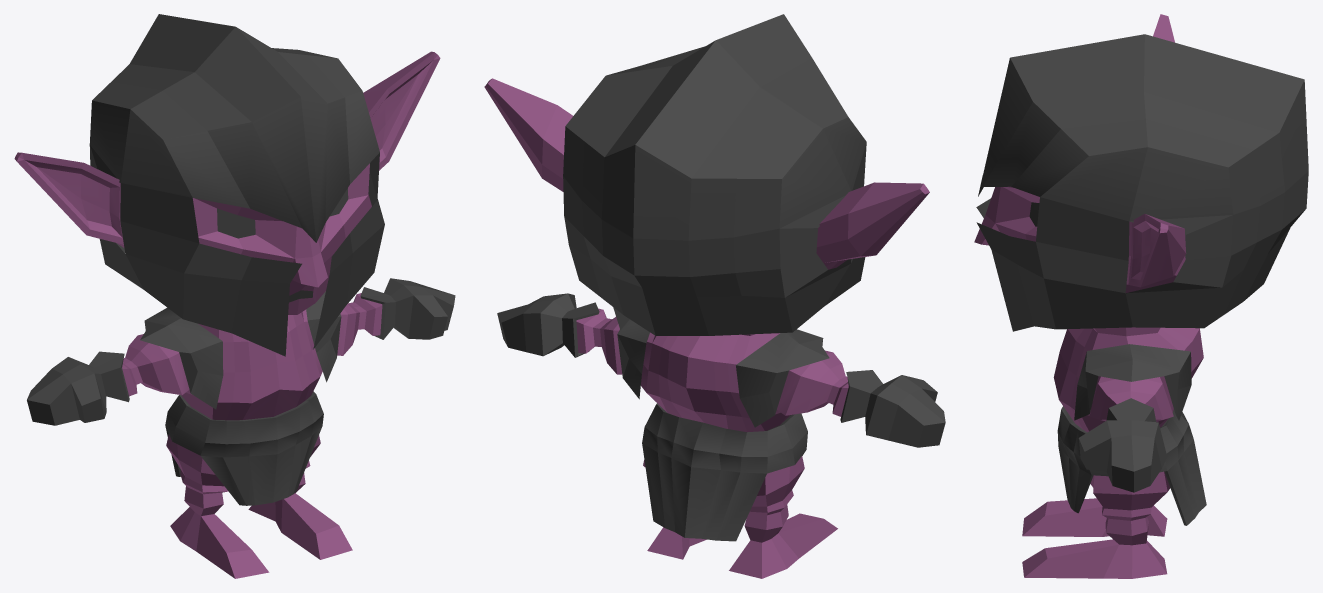
Rendered from dark_elf.fbx.
The picture shows the model from 3 angles, left to right: view 1: azimuth 30°, elevation 25°; view 2: azimuth 150°, elevation 25°; view 3: azimuth 270°, elevation 25°; orthographic projection. The views are drawn at different scales.
Parts seen in each view (by area): view 1: dark elf.003, dark elf, dark elf.001, dark elf.002; view 2: dark elf.003, dark elf, dark elf.001, dark elf.002; view 3: dark elf.003, dark elf, dark elf.001, dark elf.002.
Boxes of the visible parts, <box> form: dark elf.003: <box>89,14,384,356</box>; dark elf: <box>14,51,455,578</box>; dark elf.001: <box>165,391,323,505</box>; dark elf.002: <box>140,291,341,409</box>; dark elf.003: <box>563,14,866,335</box>; dark elf: <box>484,78,945,578</box>; dark elf.001: <box>642,403,807,541</box>; dark elf.002: <box>613,307,829,427</box>; dark elf.003: <box>976,34,1308,331</box>; dark elf: <box>974,14,1203,578</box>; dark elf.001: <box>1057,406,1206,525</box>; dark elf.002: <box>1074,344,1191,420</box>.
Bounding box in the file's own units: 168 × 186 × 109.
